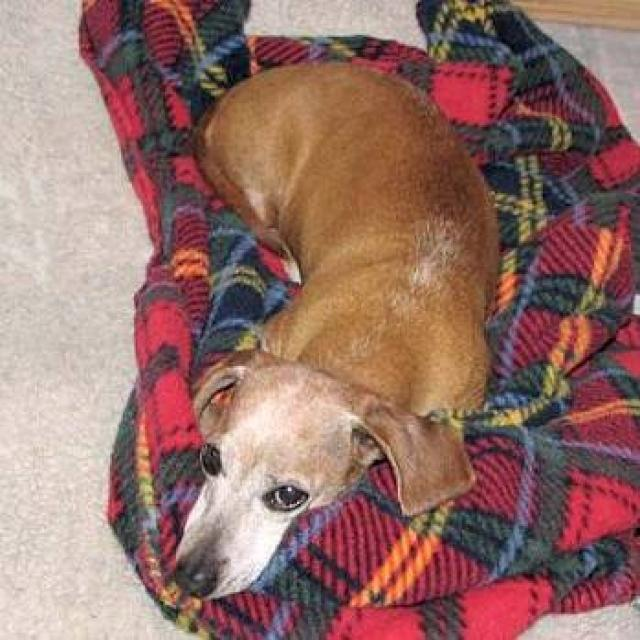dogs: (175, 62, 504, 640)
